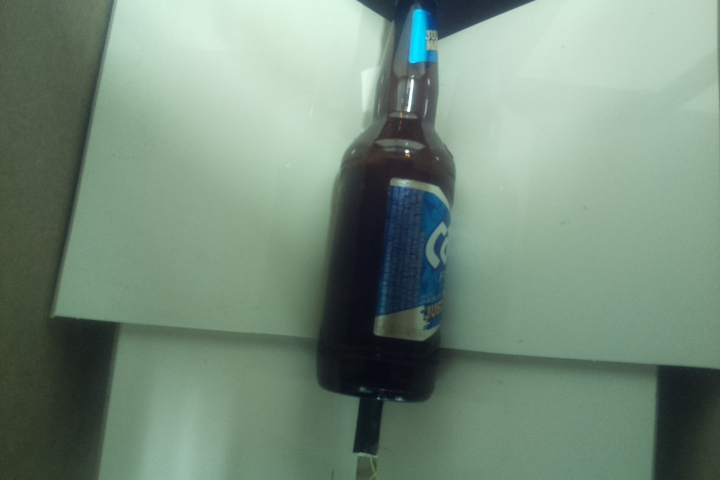makju: (314, 1, 456, 405)
